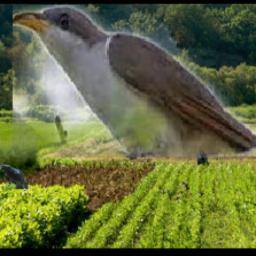Crow: (0, 164, 30, 191)
Cuckoo: (11, 5, 256, 158)
